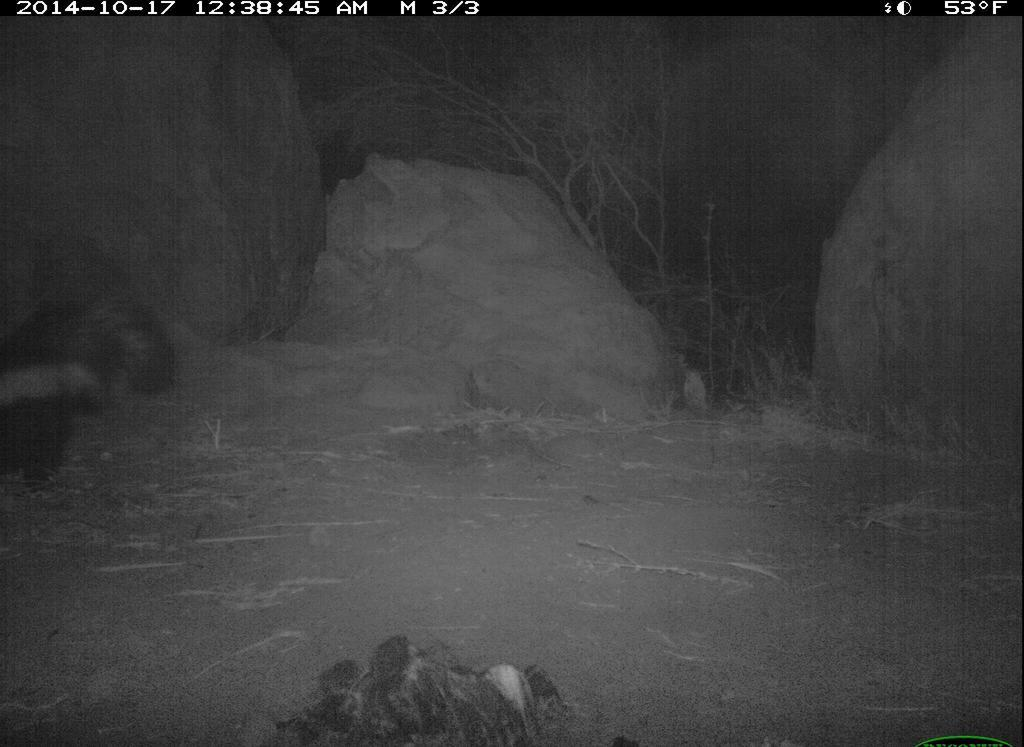skunk: (4, 271, 187, 487)
